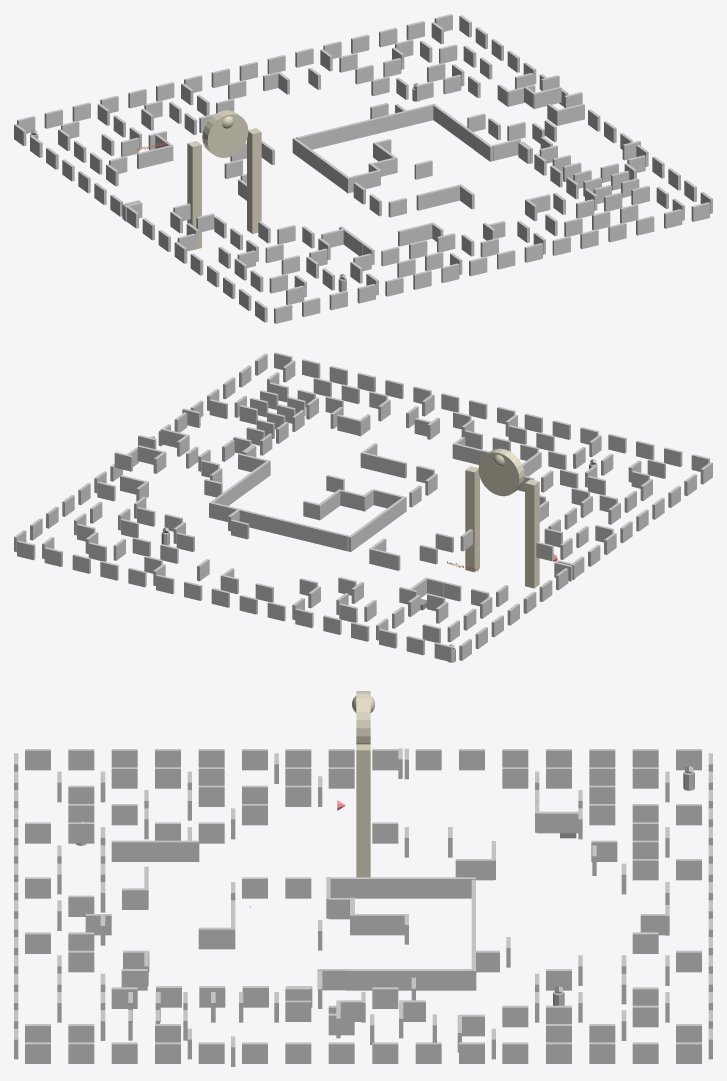
The model's file is wall.glb.
3 renders of one model, top to bottom at view 1: azimuth 30°, elevation 25°; view 2: azimuth 150°, elevation 25°; view 3: azimuth 270°, elevation 25°, orthographic. The views are drawn at different scales.
Parts seen in each view (by area): view 1: MazeWall_H_8_10, EntranceTopOrnament, EntranceRightPillar, EntranceLeftPillar, MazeWall_V_7_10, MazeWall_H_8_7, MazeWall_H_8_5; view 2: MazeWall_H_8_10, EntranceTopOrnament, EntranceLeftPillar, EntranceRightPillar, MazeWall_V_7_10, MazeWall_H_5_11, MazeWall_H_8_5; view 3: MazeWall_V_7_10, EntranceRightPillar, MazeWall_V_12_8, MazeWall_V_5_5, MazeWall_V_4_12, MazeWall_V_9_8, EntranceTopOrnament, MazeWall_V_12_10, MazeWall_V_11_1, MazeWall_V_14_11, MazeWall_V_14_14, MazeWall_V_11_3 (+31 smaller).
Boxes of the visible parts, left/top/right/bottom form: MazeWall_H_8_10: left=296, top=103, right=435, bottom=149; EntranceTopOrnament: left=202, top=110, right=248, bottom=157; EntranceRightPillar: left=247, top=128, right=261, bottom=233; EntranceLeftPillar: left=187, top=141, right=201, bottom=249; MazeWall_V_7_10: left=292, top=137, right=339, bottom=185; MazeWall_H_8_7: left=346, top=169, right=380, bottom=193; MazeWall_H_8_5: left=416, top=188, right=446, bottom=210; MazeWall_H_8_10: left=209, top=502, right=348, bottom=551; EntranceTopOrnament: left=478, top=448, right=524, bottom=496; EntranceLeftPillar: left=525, top=479, right=539, bottom=588; EntranceRightPillar: left=465, top=466, right=479, bottom=572; MazeWall_V_7_10: left=348, top=504, right=395, bottom=551; MazeWall_H_5_11: left=369, top=548, right=400, bottom=570; MazeWall_H_8_5: left=377, top=456, right=406, bottom=478; MazeWall_V_7_10: left=354, top=877, right=475, bottom=898; EntranceRightPillar: left=356, top=744, right=370, bottom=877; MazeWall_V_12_8: left=345, top=969, right=423, bottom=990; MazeWall_V_5_5: left=137, top=840, right=199, bottom=861; MazeWall_V_4_12: left=536, top=811, right=580, bottom=833; MazeWall_V_9_8: left=361, top=914, right=408, bottom=935; EntranceTopOrnament: left=352, top=691, right=374, bottom=744; MazeWall_V_12_10: left=431, top=969, right=476, bottom=990; MazeWall_V_11_1: left=68, top=950, right=94, bottom=972; MazeWall_V_14_11: left=502, top=1005, right=528, bottom=1027; MazeWall_V_14_14: left=632, top=1005, right=658, bottom=1027; MazeWall_V_11_3: left=208, top=927, right=233, bottom=949.
Size of the model in its own units: 24.43 by 7.81 by 24.15.
